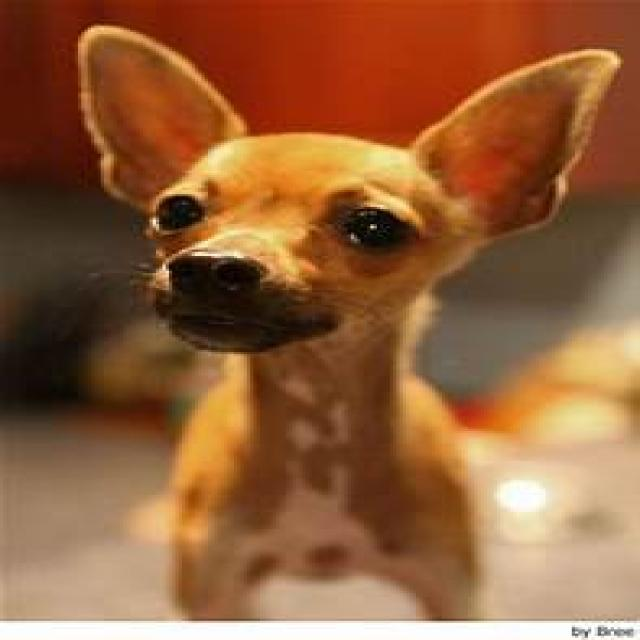dog: (78, 28, 621, 619)
